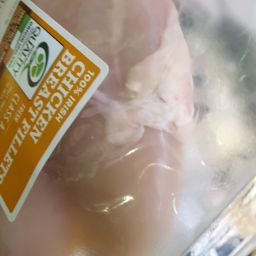Chicken breast: (98, 16, 219, 233)
